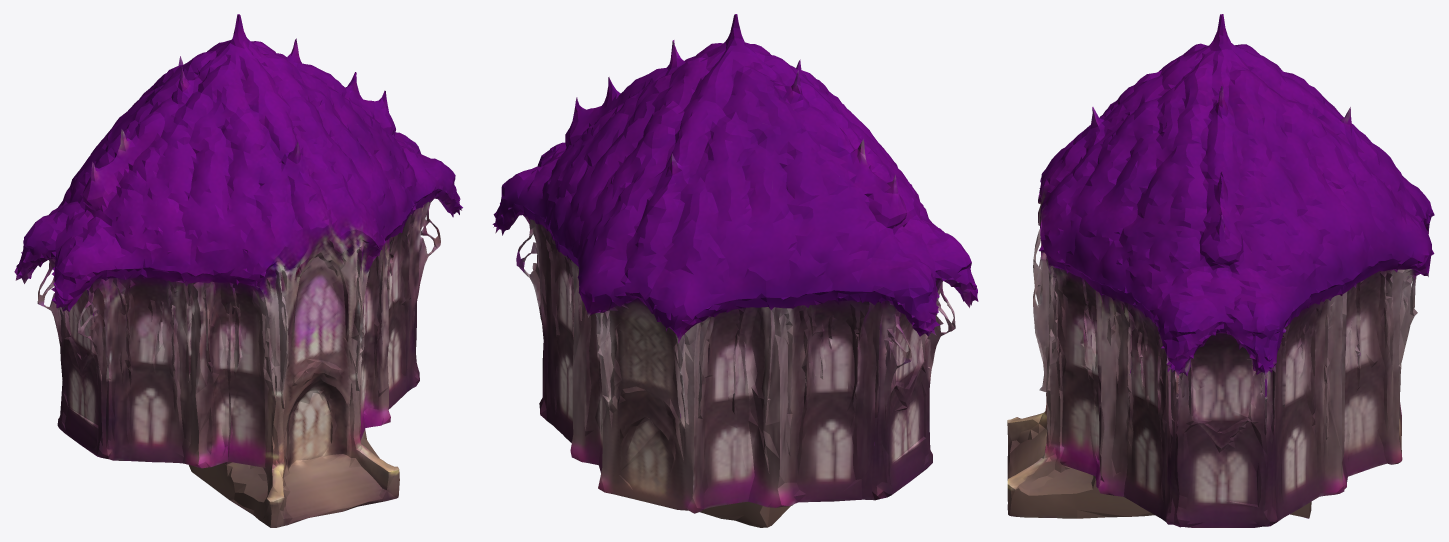
Rendered from nightelf_townhall.glb.
The picture shows the model from 3 angles, left to right: view 1: azimuth 30°, elevation 25°; view 2: azimuth 150°, elevation 25°; view 3: azimuth 270°, elevation 25°; orthographic projection. The views are drawn at different scales.
Visible parts, largest first — view 1: NightElf_TownHall; view 2: NightElf_TownHall; view 3: NightElf_TownHall.
Boxes of the visible parts, x1,y1,x2,y2 form: NightElf_TownHall: (14,14,462,527); NightElf_TownHall: (492,14,978,527); NightElf_TownHall: (1007,14,1434,527).
Bounding box in the file's own units: 7.58 × 7.57 × 6.27.
1 material, 1 textured.
